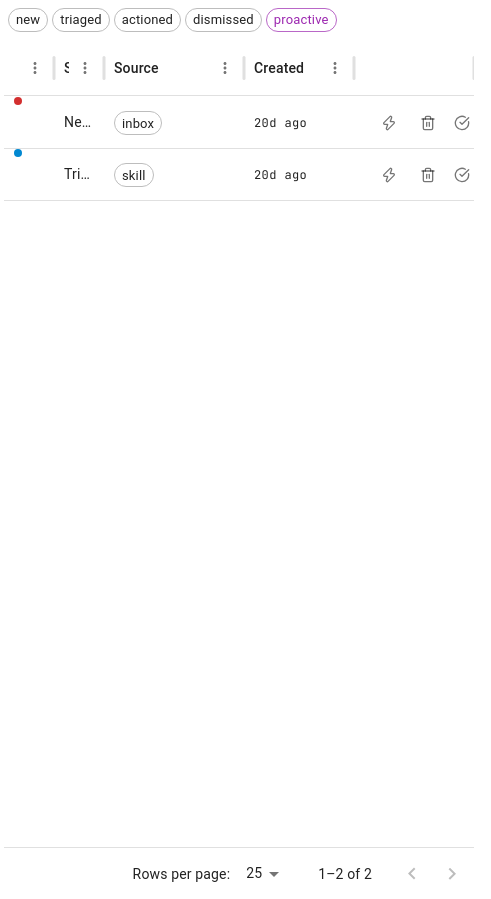
Test: FeedInboxSection › a status chip filters the list
The width and height of the screenshot is (491, 899).
Expected: the button "New one" is shown, [64, 114, 104, 130]
Click the button "triaged": (81,20) [52, 8, 110, 32]
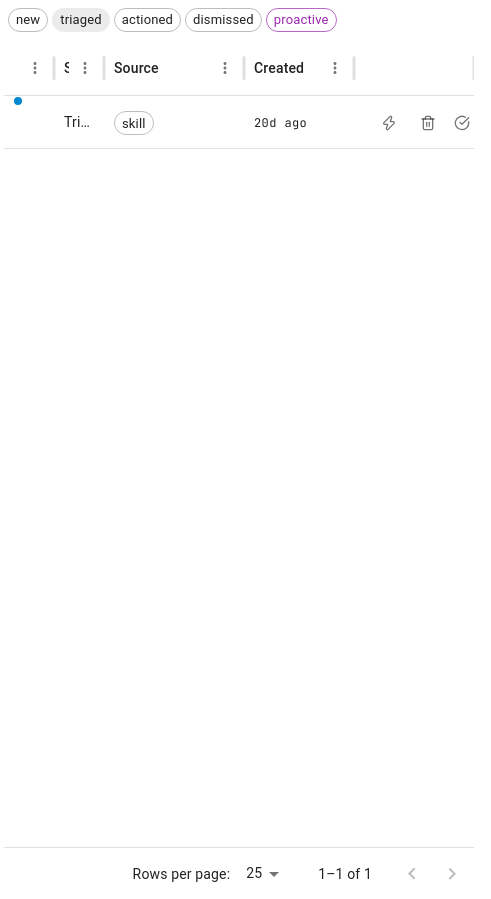
Result: the button "New one" is gone
